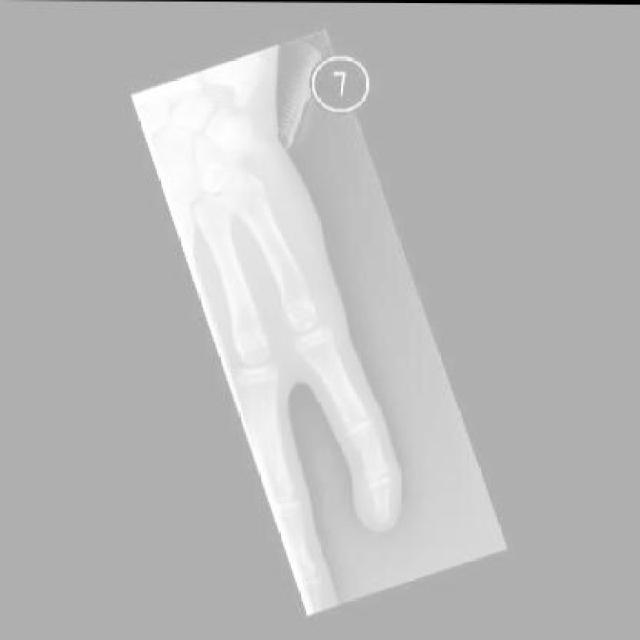Fracture: (371, 483, 396, 497)
